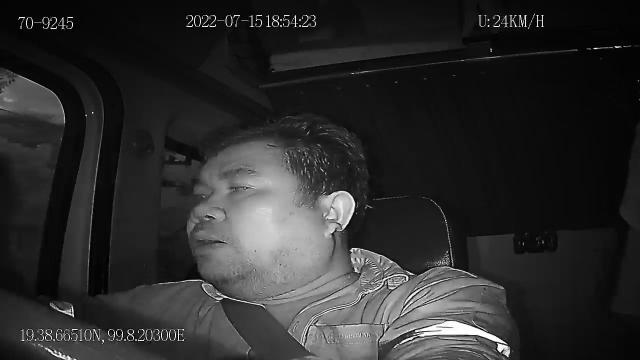SafeDriving: (217, 154, 265, 194)
Seatbelt: (218, 296, 318, 360)
